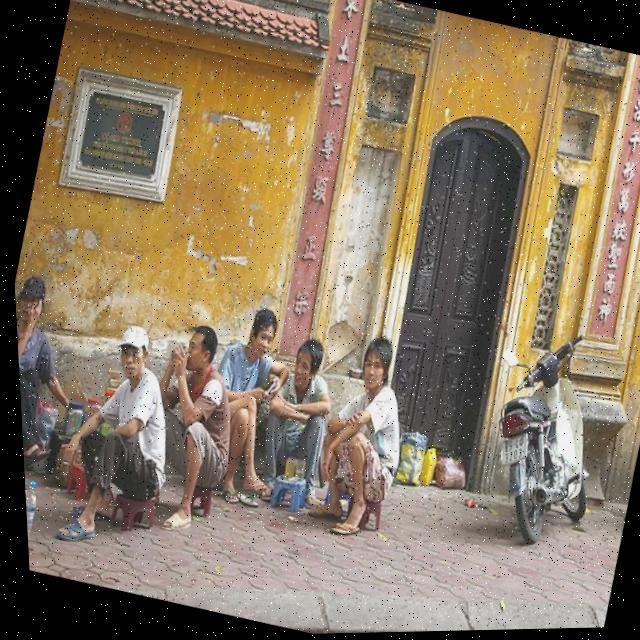motorcycle: (456, 314, 637, 560)
